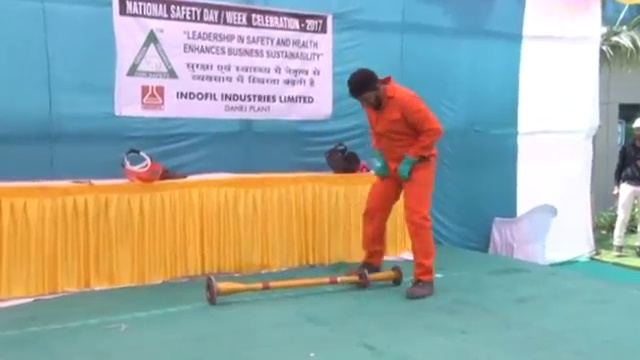helmet: (631, 117, 640, 129)
helmet_off: (345, 67, 384, 112)
helmet_on: (630, 115, 640, 144)
person: (342, 65, 442, 301), (611, 113, 640, 259)
